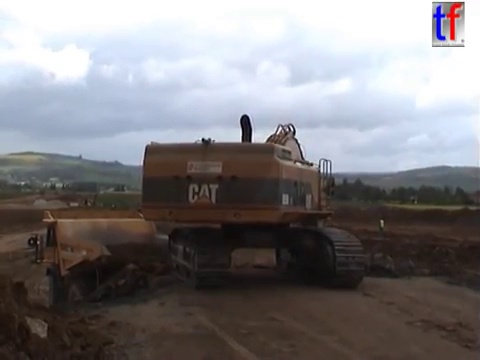excavator: (137, 111, 370, 291), (75, 197, 102, 212)
truck: (26, 206, 218, 313), (37, 187, 48, 198), (52, 188, 61, 197)
worker: (376, 215, 387, 234)
